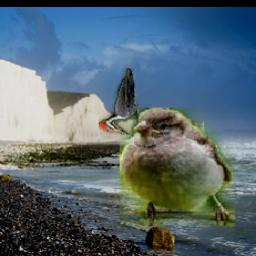Sparrow: (120, 109, 235, 227)
Woodpecker: (99, 69, 139, 135)
